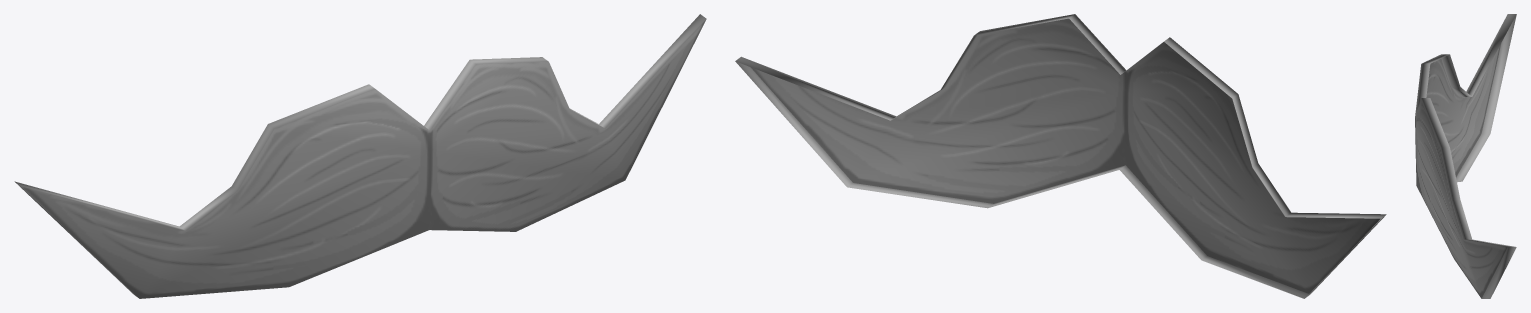
Rendered from Moustache.fbx.
The picture shows the model from 3 angles, left to right: view 1: azimuth 30°, elevation 25°; view 2: azimuth 150°, elevation 25°; view 3: azimuth 270°, elevation 25°; orthographic projection. The views are drawn at different scales.
Parts seen in each view (by area): view 1: Moustache; view 2: Moustache; view 3: Moustache.
Part boxes in pixels (left/top/right/bottom): Moustache: left=14, top=14, right=706, bottom=298; Moustache: left=735, top=14, right=1386, bottom=298; Moustache: left=1415, top=14, right=1516, bottom=298.
Bounding box in the file's own units: 23.49 × 6.55 × 4.33.
